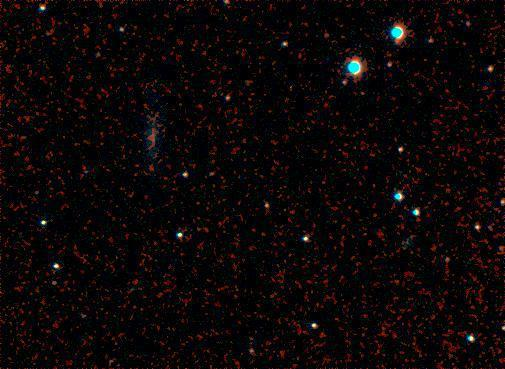star: (346, 83, 376, 113)
